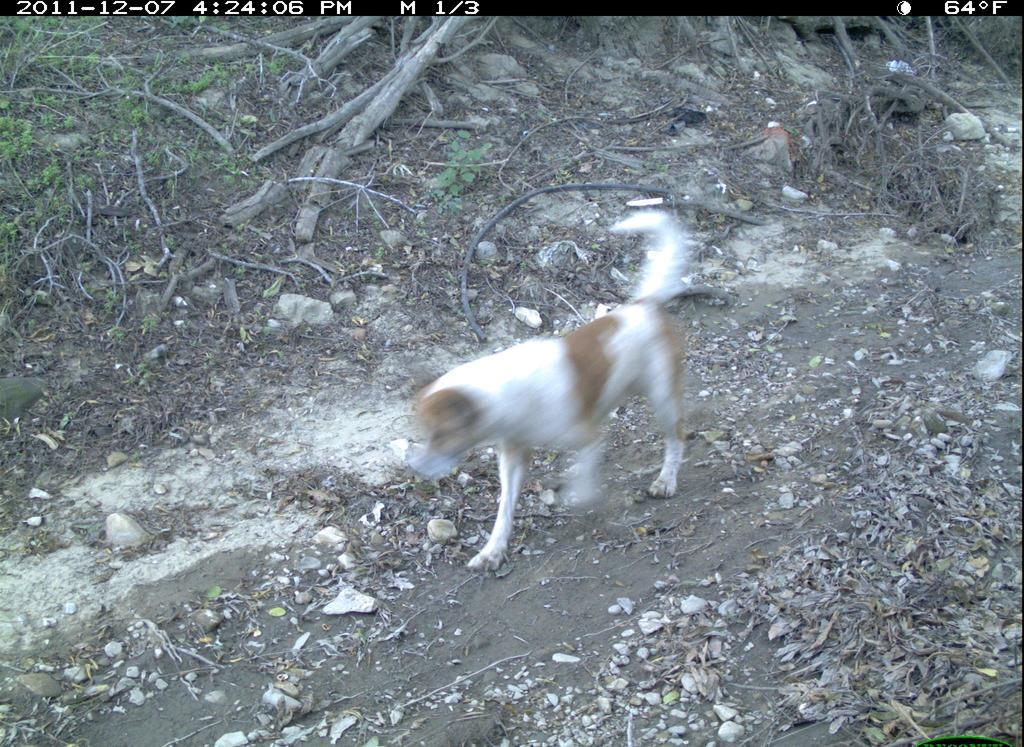dog: (392, 208, 722, 578)
